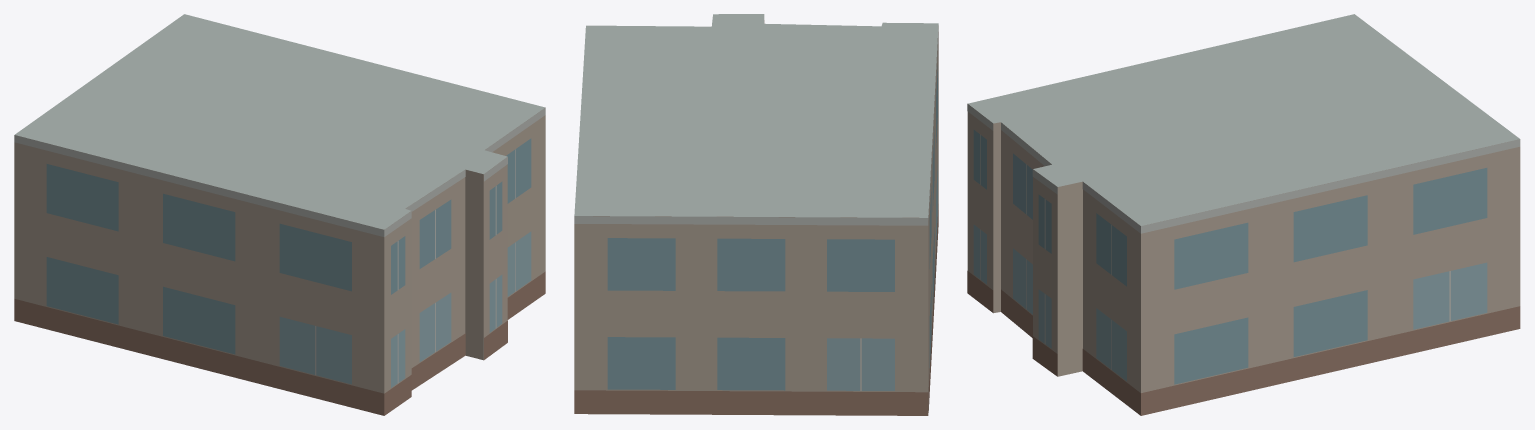
Rendered from survey-upis-32612902.glb.
The picture shows the model from 3 angles, left to right: view 1: azimuth 30°, elevation 25°; view 2: azimuth 150°, elevation 25°; view 3: azimuth 270°, elevation 25°; orthographic projection. The views are drawn at different scales.
Visible parts, largest first — view 1: survey-upis-32612902.tmp; view 2: survey-upis-32612902.tmp; view 3: survey-upis-32612902.tmp.
Part boxes in pixels (bbox=[...]): survey-upis-32612902.tmp: bbox=[14, 14, 545, 415]; survey-upis-32612902.tmp: bbox=[574, 14, 938, 415]; survey-upis-32612902.tmp: bbox=[967, 14, 1520, 415].
Size of the model in its own units: 14.64 by 6.1 by 16.12.
